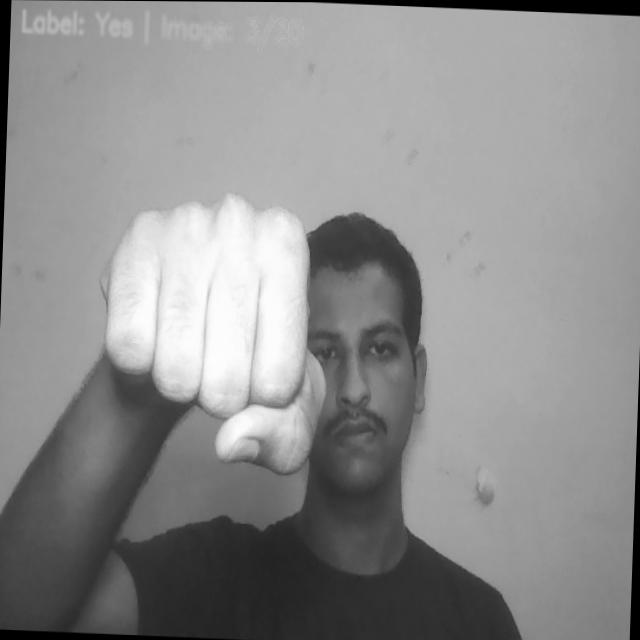Yes: (87, 183, 336, 478)
